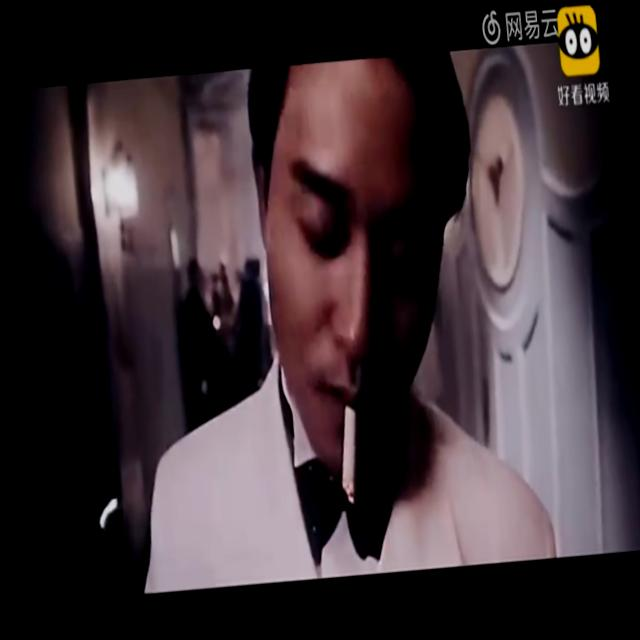cigarette: (334, 422, 362, 514)
